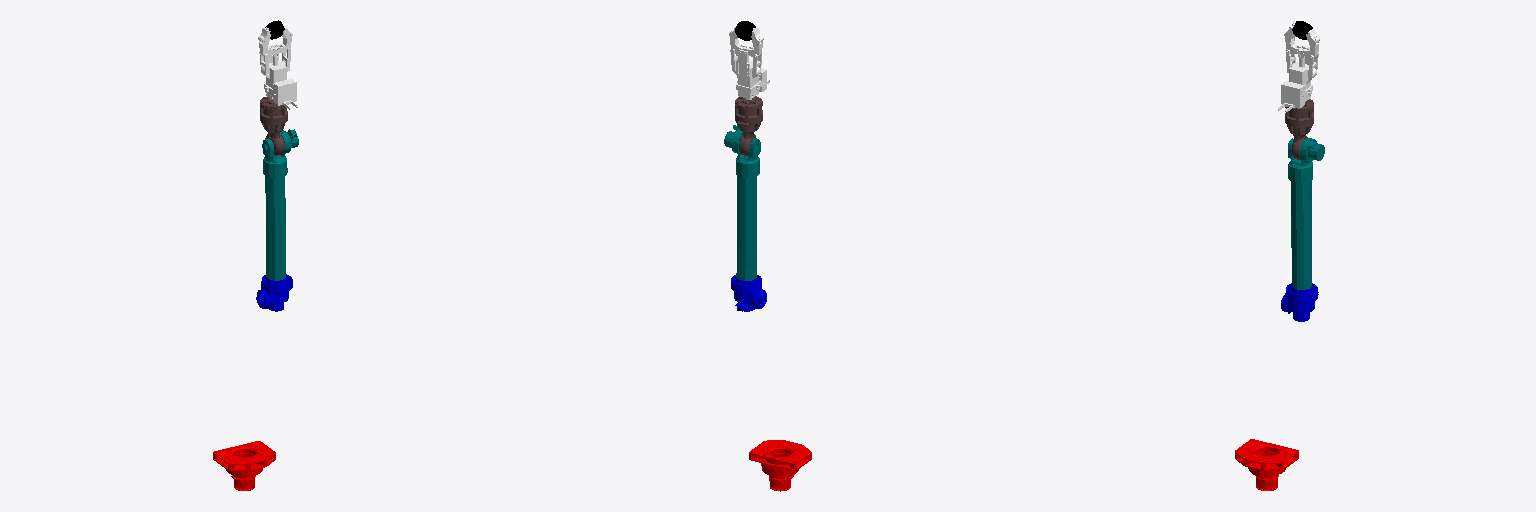
The robot description file, URDF, robot "arm_description":
<?xml version="1.0" encoding="utf-8"?>
<!-- =================================================================================== -->
<!-- |    This document was autogenerated by xacro from arm_description.urdf.xacro     | -->
<!-- |    EDITING THIS FILE BY HAND IS NOT RECOMMENDED                                 | -->
<!-- =================================================================================== -->
<!--
Author: Daniel Hirsch
This xacro expands into the URDF for the arm.


Note that most links have origin's equal to half their lengths

Generate model by running: rosrun xacro xacro -o arm_description.urdf arm_description.urdf.xacro
inside a shell in cmr_arm/arm_description/urdf
 -->
<robot name="arm_description">
  <link name="base">
    <intertial>
      <origin rpy="0 0 0" xyz="0 0 0"/>
      <mass value="1000"/>
      <inertia ixx="0.00035480405869602" ixy="-0.00065199857117274" ixz="0.000191849153841144" iyy="0.00158383903971818" iyz="9.59056305777939E-05" izz="0.00188232432766353"/>
    </intertial>
    <visual>
      <geometry>
        <cylinder length="0" radius="0.0001"/>
      </geometry>
      <origin rpy="0 0 0" xyz="0 0 0"/>
      <material name="base">
        <color rgba="0 1 0 1"/>
      </material>
    </visual>
    <collision>
      <geometry>
        <cylinder length="0" radius="0.0001"/>
      </geometry>
      <origin rpy="0 0 0" xyz="0 0 0"/>
    </collision>
  </link>
  <link name="base_rotate">
    <intertial>
      <origin rpy="0 0 0" xyz="0 0 0"/>
      <mass value="1"/>
      <inertia ixx="0.00035480405869602" ixy="-0.00065199857117274" ixz="0.000191849153841144" iyy="0.00158383903971818" iyz="9.59056305777939E-05" izz="0.00188232432766353"/>
    </intertial>
    <visual>
      <geometry>
        <mesh filename="package://arm_description/meshes/arm_2020/base_rotate.stl" scale="0.01 0.01 0.01"/>
      </geometry>
      <origin rpy="-1.57 3.14 0" xyz="0 0 0"/>
      <material name="base_rotate">
        <color rgba="1 0 0 1"/>
      </material>
    </visual>
    <collision>
      <geometry>
        <cylinder length="0.05" radius="0.2"/>
      </geometry>
      <origin rpy="0 0 0" xyz="0 0 0"/>
    </collision>
  </link>
  <joint name="base_rotate" type="revolute">
    <origin rpy="0 0 0" xyz="0 0 0"/>
    <parent link="base"/>
    <child link="base_rotate"/>
    <axis xyz="0 0 1"/>
    <limit effort="0" lower="-1.57" upper="1.57" velocity="0"/>
  </joint>
  <link name="shoulder">
    <intertial>
      <origin rpy="0 0 0" xyz="0 0 0.17215"/>
      <mass value="0.65"/>
      <inertia ixx="0.00035480405869602" ixy="-0.00065199857117274" ixz="0.000191849153841144" iyy="0.00158383903971818" iyz="9.59056305777939E-05" izz="0.00188232432766353"/>
    </intertial>
    <visual>
      <geometry>
        <mesh filename="package://arm_description/meshes/arm_2020/shoulder.stl" scale="0.01 0.01 0.01"/>
      </geometry>
      <origin rpy="2.35 -0.1 0.05" xyz=".027 0.085 -0.065"/>
      <material name="shoulder">
        <color rgba="1 0 0 1"/>
      </material>
    </visual>
    <collision>
      <geometry>
        <cylinder length="0.3443" radius="0.04"/>
      </geometry>
      <origin rpy="0 0 0" xyz="0 0 0.17215"/>
    </collision>
  </link>
  <joint name="shoulder" type="revolute">
    <origin rpy="0 0 0" xyz="0 0 0.098"/>
    <parent link="base_rotate"/>
    <child link="shoulder"/>
    <axis xyz="1 0 0"/>
    <limit effort="0" lower="-1.57" upper="1.57" velocity="0"/>
  </joint>
  <link name="elbow">
    <intertial>
      <origin rpy="0 1.57075 0" xyz="0.049 0 0"/>
      <mass value="0.1"/>
      <inertia ixx="0.00035480405869602" ixy="-0.00065199857117274" ixz="0.000191849153841144" iyy="0.00158383903971818" iyz="9.59056305777939E-05" izz="0.00188232432766353"/>
    </intertial>
    <visual>
      <geometry>
        <mesh filename="package://arm_description/meshes/arm_2020/shoulder_elbow_joint.stl" scale="0.01 0.01 0.01"/>
      </geometry>
      <origin rpy="3.14 -.1 0" xyz="0.002 .35 -.235"/>
      <material name="elbow">
        <color rgba="0 0 1 1"/>
      </material>
    </visual>
    <collision>
      <geometry>
        <cylinder length="0.098" radius="0.02"/>
      </geometry>
      <origin rpy="0 1.57075 0" xyz="0.049 0 0"/>
    </collision>
  </link>
  <joint name="elbow" type="revolute">
    <origin rpy="0 0 0" xyz="0 0 0.3443"/>
    <parent link="shoulder"/>
    <child link="elbow"/>
    <axis xyz="1 0 0"/>
    <limit effort="0" lower="-2.35" upper="2.35" velocity="0"/>
  </joint>
  <link name="second_rotate">
    <intertial>
      <origin rpy="0 0 0" xyz="0 0 0.2298"/>
      <mass value="0.65"/>
      <inertia ixx="0.00035480405869602" ixy="-0.00065199857117274" ixz="0.000191849153841144" iyy="0.00158383903971818" iyz="9.59056305777939E-05" izz="0.00188232432766353"/>
    </intertial>
    <visual>
      <geometry>
        <mesh filename="package://arm_description/meshes/arm_2020/elbow.stl" scale="0.01 0.01 0.01"/>
      </geometry>
      <origin rpy="3.14 -0.15 0" xyz="-0.083 0.35 -0.24"/>
      <material name="second_rotate">
        <color rgba="0 0.5 0.5 1"/>
      </material>
    </visual>
    <collision>
      <geometry>
        <cylinder length="0.4596" radius="0.02"/>
      </geometry>
      <origin rpy="0 0 0" xyz="0 0 0.2298"/>
    </collision>
  </link>
  <joint name="second_rotate" type="revolute">
    <origin rpy="0 0 0" xyz="0.098 0 0"/>
    <parent link="elbow"/>
    <child link="second_rotate"/>
    <axis xyz="0 0 1"/>
    <limit effort="0" lower="-3.14" upper="3.14" velocity="0"/>
  </joint>
  <link name="third_tilt">
    <intertial>
      <origin rpy="0 0 0" xyz="0 0 0.0674"/>
      <mass value="0.3"/>
      <inertia ixx="0.00035480405869602" ixy="-0.00065199857117274" ixz="0.000191849153841144" iyy="0.00158383903971818" iyz="9.59056305777939E-05" izz="0.00188232432766353"/>
    </intertial>
    <visual>
      <geometry>
        <mesh filename="package://arm_description/meshes/arm_2020/second_tilt.stl" scale="0.01 0.01 0.01"/>
      </geometry>
      <origin rpy="-2.355 -0.1 0" xyz="-.164 0.72 -.255"/>
      <material name="third_tilt">
        <color rgba=".4 .3 .3 1"/>
      </material>
    </visual>
    <collision>
      <geometry>
        <cylinder length="0.1348" radius="0.02"/>
      </geometry>
      <origin rpy="0 0 0" xyz="0 0 0.0674"/>
    </collision>
  </link>
  <joint name="third_tilt" type="revolute">
    <origin rpy="0 0 0" xyz="0 0 0.4596"/>
    <parent link="second_rotate"/>
    <child link="third_tilt"/>
    <axis xyz="1 0 0"/>
    <limit effort="0" lower="-1.57" upper="1.57" velocity="0"/>
  </joint>
  <link name="third_rotate">
    <intertial>
      <origin rpy="0 0 0" xyz="0 0 0.0726"/>
      <mass value="0.3"/>
      <inertia ixx="0.00035480405869602" ixy="-0.00065199857117274" ixz="0.000191849153841144" iyy="0.00158383903971818" iyz="9.59056305777939E-05" izz="0.00188232432766353"/>
    </intertial>
    <visual>
      <geometry>
        <mesh filename="package://arm_description/meshes/arm_2020/end_effector.stl" scale="0.01 0.01 0.01"/>
      </geometry>
      <origin rpy="0 0 0" xyz="0 0 0"/>
      <material name="third_rotate">
        <color rgba="1 1 1 1"/>
      </material>
    </visual>
    <collision>
      <geometry>
        <cylinder length="0.1452" radius="0.02"/>
      </geometry>
      <origin rpy="0 0 0" xyz="0 0 0.0726"/>
    </collision>
  </link>
  <joint name="third_rotate" type="continuous">
    <origin xyz="0 0 0.1348"/>
    <parent link="third_tilt"/>
    <child link="third_rotate"/>
    <axis xyz="0 0 1"/>
  </joint>
  <link name="end_effector">
    <intertial>
      <origin rpy="0 0 0" xyz="0 0 0.012"/>
      <mass value="0.3"/>
      <inertia ixx="0.00035480405869602" ixy="-0.00065199857117274" ixz="0.000191849153841144" iyy="0.00158383903971818" iyz="9.59056305777939E-05" izz="0.00188232432766353"/>
    </intertial>
    <visual>
      <geometry>
        <cylinder length="0.025" radius="0.025"/>
      </geometry>
      <origin rpy="0 0 0" xyz="0 0 0.012"/>
      <material name="end_effector">
        <color rgba="0 0 0 1"/>
      </material>
    </visual>
    <collision>
      <geometry>
        <cylinder length="0.025" radius="0.025"/>
      </geometry>
      <origin rpy="0 0 0" xyz="0 0 0.012"/>
    </collision>
  </link>
  <joint name="end_effector" type="revolute">
    <origin rpy="-1 0 0" xyz="0 0 0.1702"/>
    <parent link="third_rotate"/>
    <child link="end_effector"/>
    <axis xyz="0 0 1"/>
    <limit effort="0" lower="0" upper="0" velocity="0"/>
  </joint>
</robot>

--- Facts derived from the render (not from the file) ---
3 views of the same robot in one strip: view 1: azimuth 30°, elevation 25°; view 2: azimuth 150°, elevation 25°; view 3: azimuth 330°, elevation 25° (orthographic).
Robot: arm_description — 8 links, 7 joints (6 revolute, 1 continuous); root link base; default pose: every joint at zero.
Links seen in each view (by area): view 1: second_rotate, third_rotate, base_rotate, third_tilt, elbow; view 2: second_rotate, base_rotate, third_rotate, third_tilt, elbow; view 3: second_rotate, third_rotate, base_rotate, elbow, third_tilt.
Link boxes in pixels (x1,y1,x2,y2): second_rotate: (262, 129, 298, 280); third_rotate: (258, 25, 297, 109); base_rotate: (213, 441, 275, 490); third_tilt: (260, 97, 287, 155); elbow: (256, 274, 292, 311); second_rotate: (724, 125, 760, 280); base_rotate: (749, 440, 811, 491); third_rotate: (729, 27, 769, 99); third_tilt: (735, 96, 762, 155); elbow: (731, 275, 766, 311); second_rotate: (1288, 138, 1324, 289); third_rotate: (1278, 23, 1319, 111); base_rotate: (1235, 439, 1298, 490); elbow: (1281, 283, 1318, 321); third_tilt: (1285, 99, 1313, 159).
Size in the robot's own frame: 0.2266 by 0.143 by 1.32 metres.
Meshes: 6 distinct files referenced, 5 mesh visuals loaded (5 binary STL); not drawn: 1 (reference not matched to a file when rendering).
